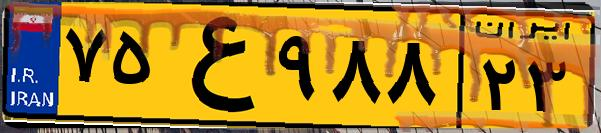2: (475, 38, 525, 113)
3: (525, 38, 570, 115)
5: (110, 28, 158, 98)
7: (57, 26, 110, 100)
8: (385, 28, 445, 110), (330, 28, 385, 110)
9: (270, 28, 330, 110)
ع: (158, 12, 270, 120)
